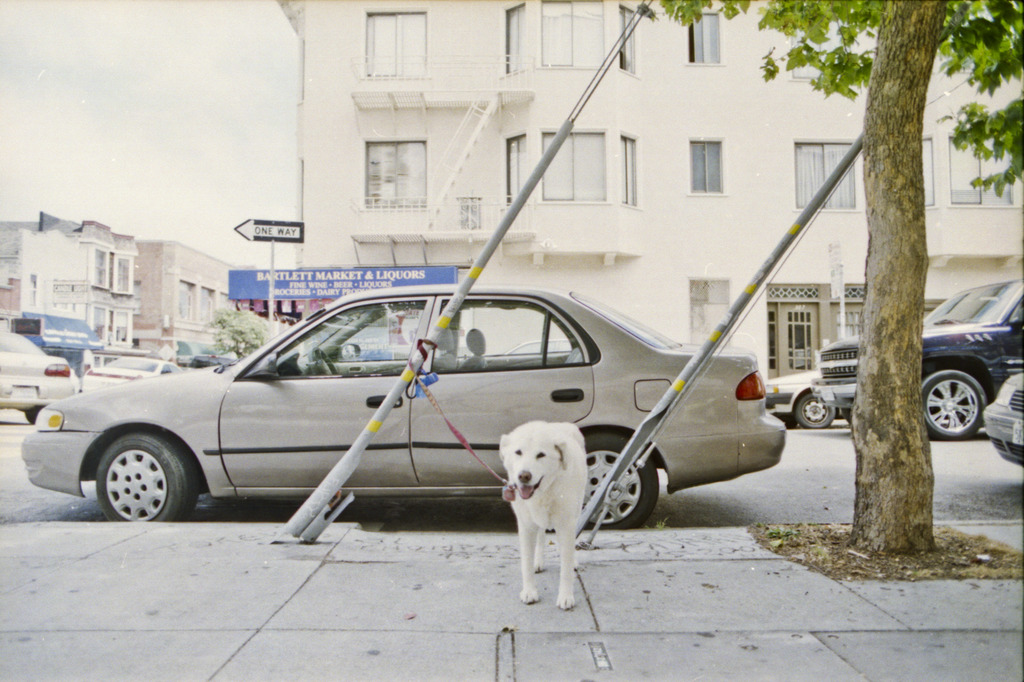Car: (30, 277, 760, 550), (809, 278, 1023, 439), (0, 323, 67, 423), (760, 368, 849, 424), (978, 369, 1023, 471), (80, 361, 182, 389)
